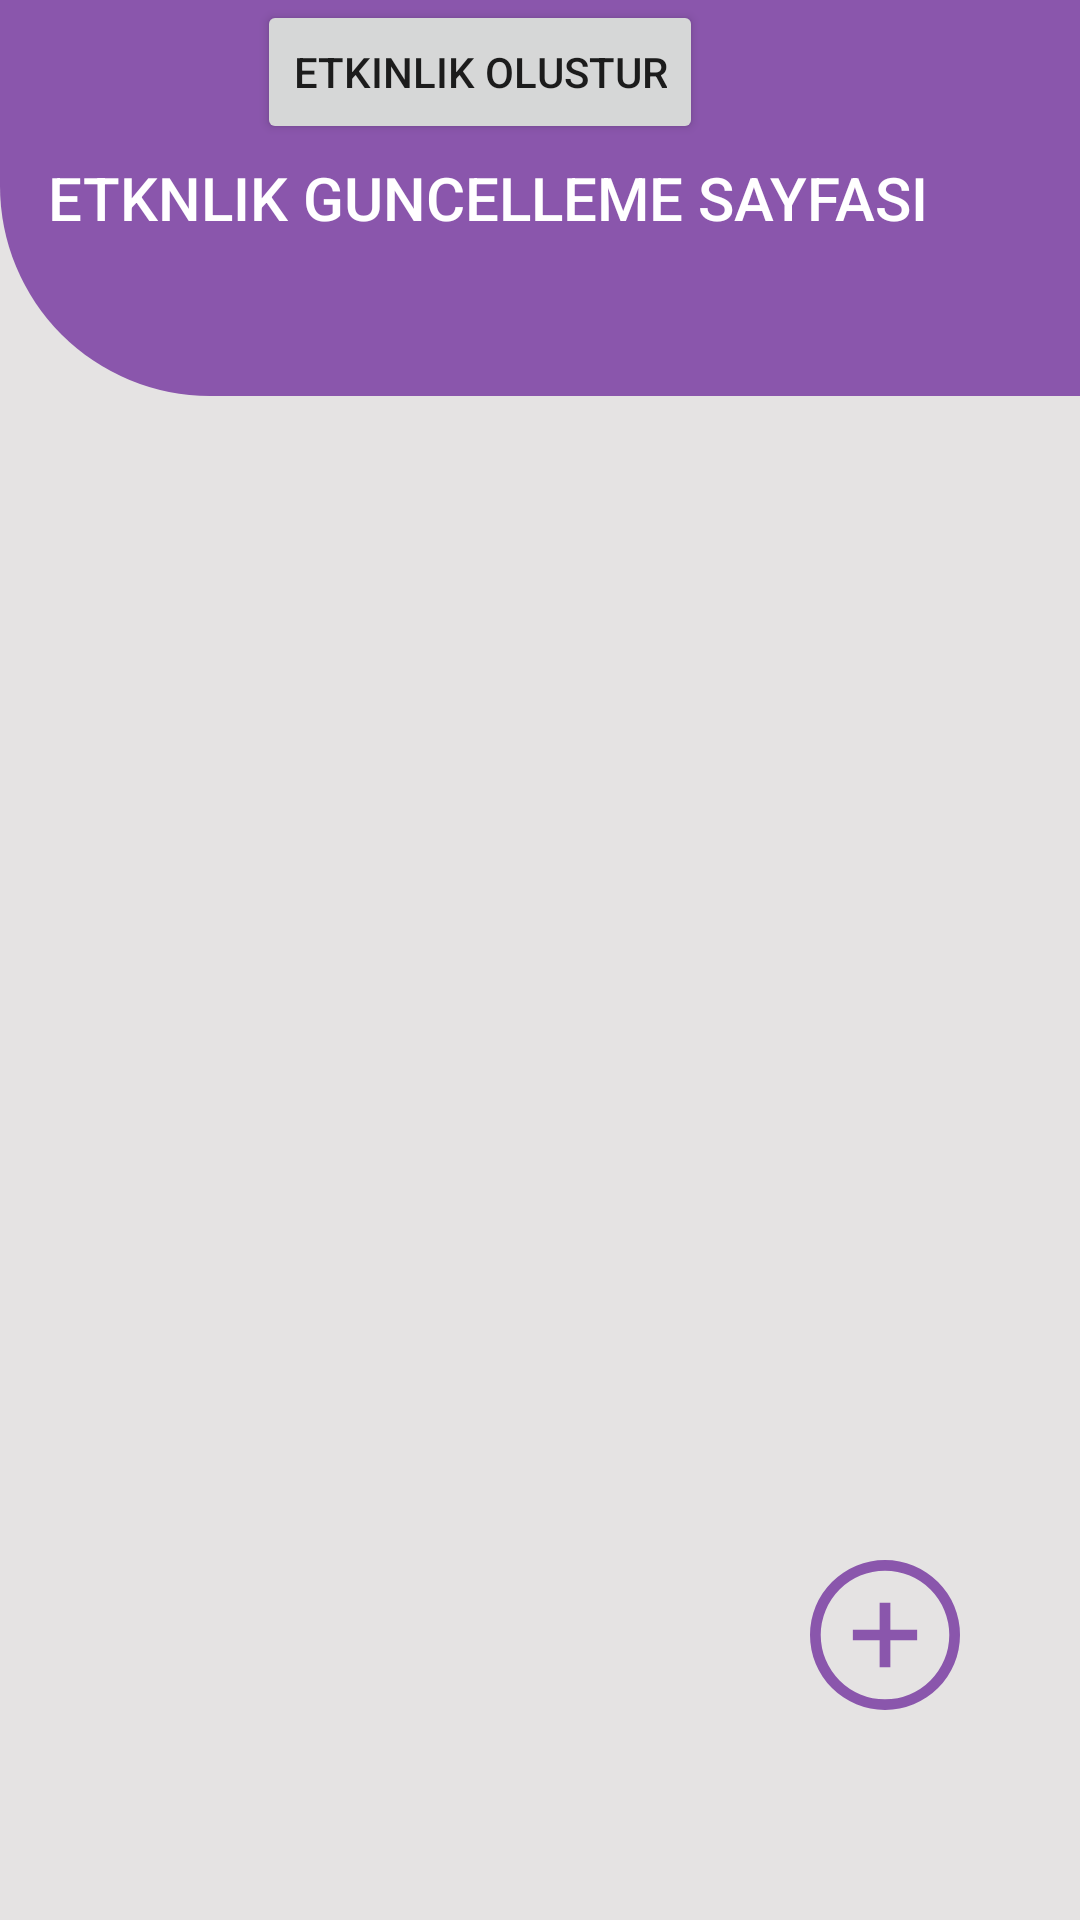

Icon click points for this 1080px x 1920px phone screenshot, format point (x, y):
arti: point (885, 1635)
